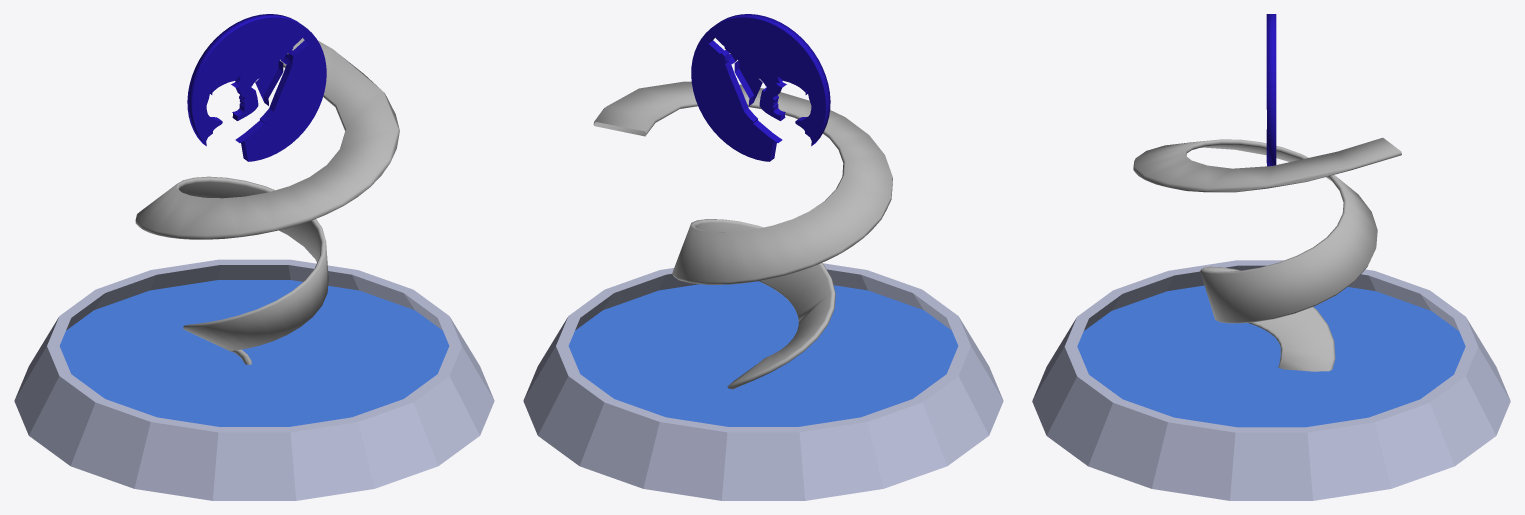
File: BlueSkyStatue.glb
3 views of the same model, side by side, from view 1: azimuth 30°, elevation 25°; view 2: azimuth 150°, elevation 25°; view 3: azimuth 270°, elevation 25° (orthographic).
Parts seen in each view (by area): view 1: MainStatue; view 2: MainStatue; view 3: MainStatue.
Boxes of the visible parts, x1,y1,x2,y2 form: MainStatue: (14,14,494,500); MainStatue: (523,14,1003,500); MainStatue: (1032,14,1510,500).
Bounding box in the file's own units: 5.91 × 5.42 × 6.
